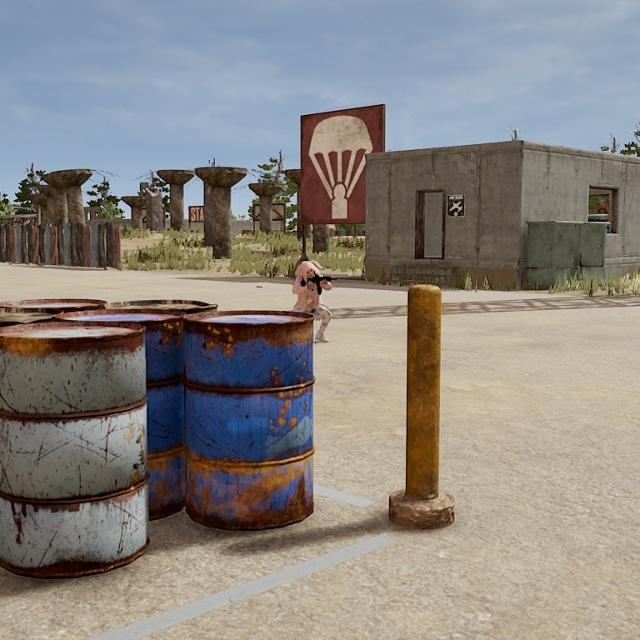head: (300, 260, 320, 285)
people: (291, 259, 332, 346)
